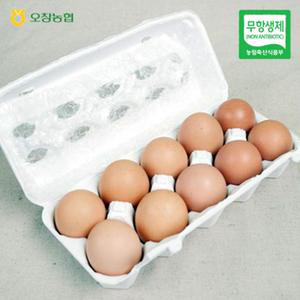egg: (54, 99, 294, 277)
